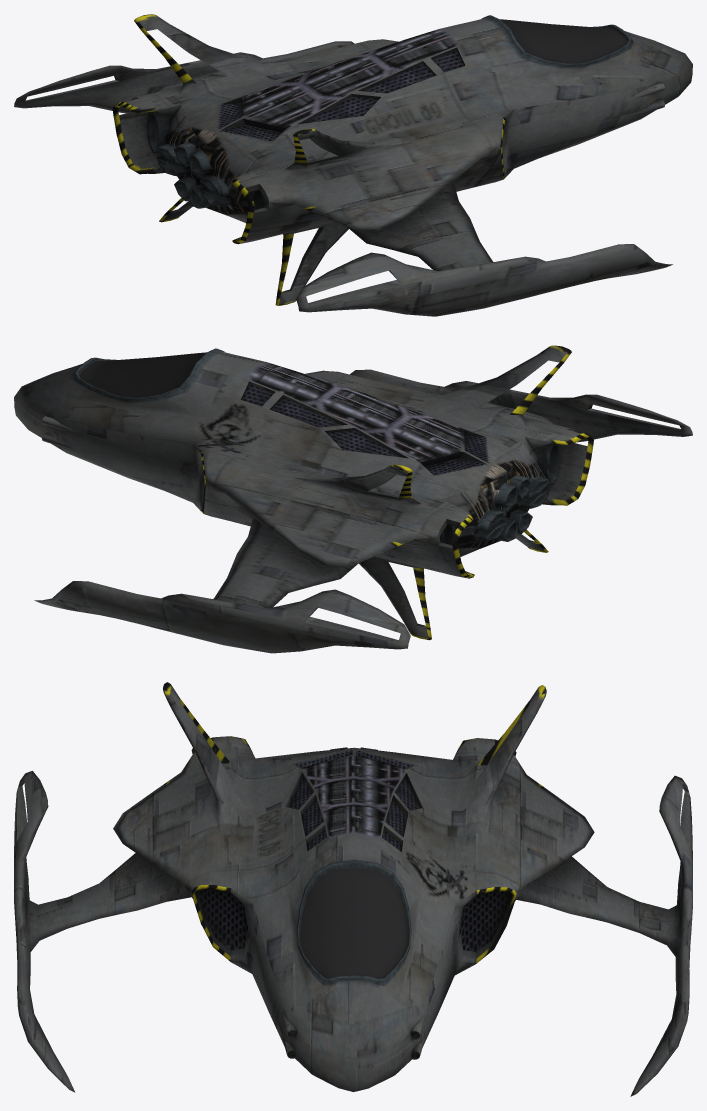
Rendered from Enemy_2.FBX.
The picture shows the model from 3 angles, top to bottom: view 1: azimuth 30°, elevation 25°; view 2: azimuth 150°, elevation 25°; view 3: azimuth 270°, elevation 25°; orthographic projection. The views are drawn at different scales.
Visible parts, largest first — view 1: Box01; view 2: Box01; view 3: Box01.
Part boxes in pixels (x1=…): Box01: x1=14, y1=14, x2=692, y2=316; Box01: x1=14, y1=345, x2=692, y2=653; Box01: x1=14, y1=682, x2=692, y2=1096.
Bounding box in the file's own units: 44.52 × 15.22 × 41.51.
Materials: 1 (1 with a texture image).
